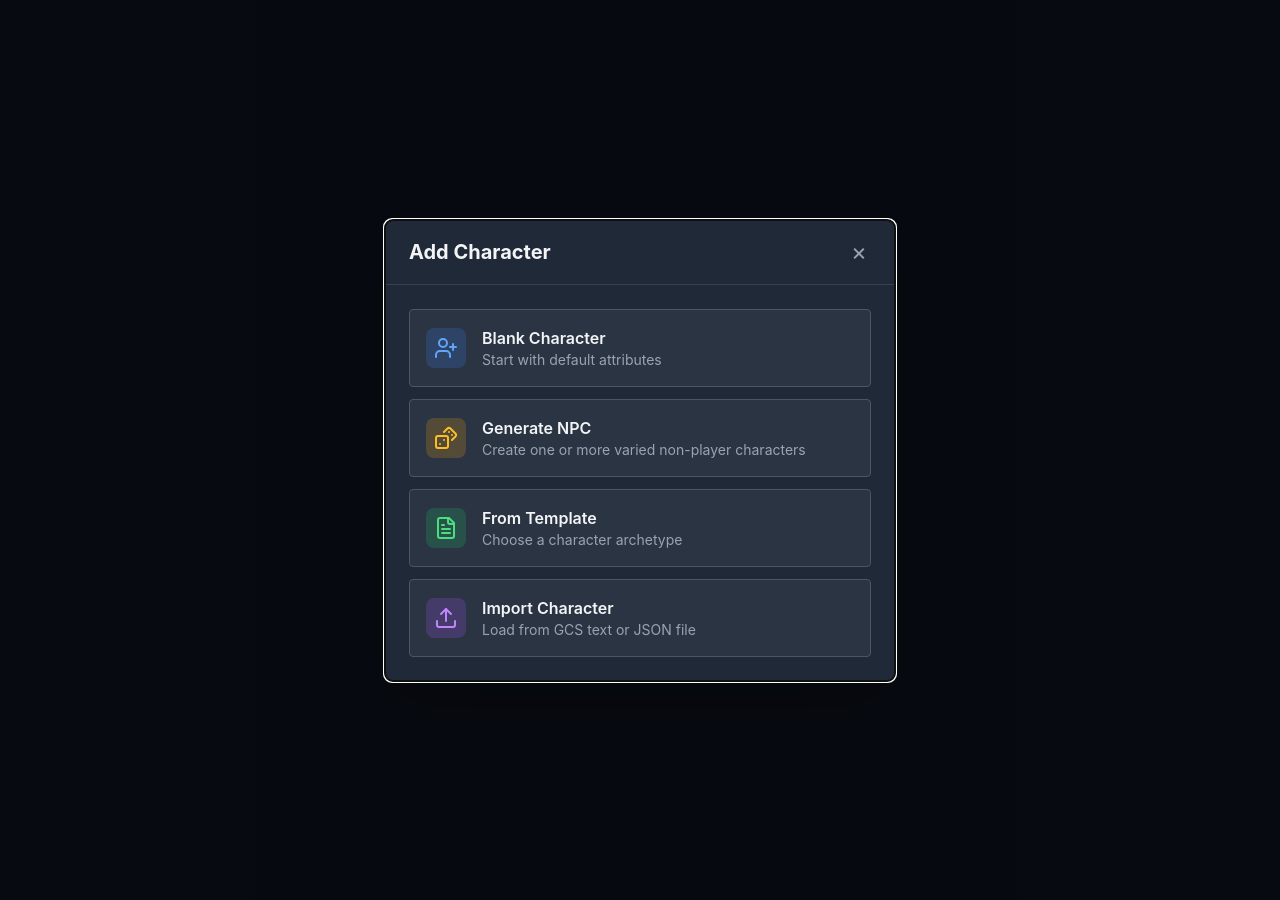
CharacterCreationModal › navigates to blank character step
Click the text "Blank Character": point(544, 338) [482,328,606,348]
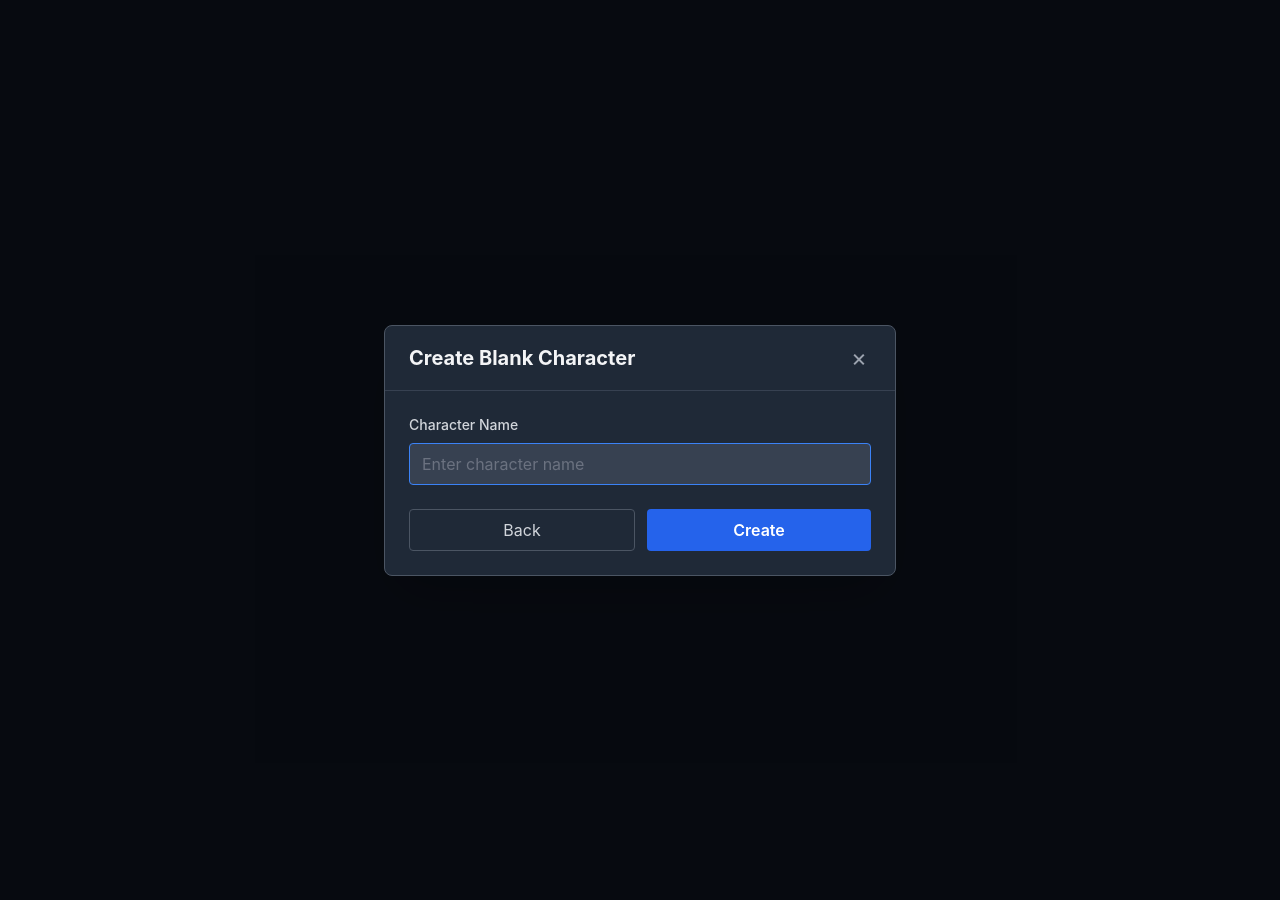
Expected: the heading "Create Blank Character" is shown, [409,344,635,372]
Expected: the field with placeholder "Enter character name" is shown, [409,442,871,484]
